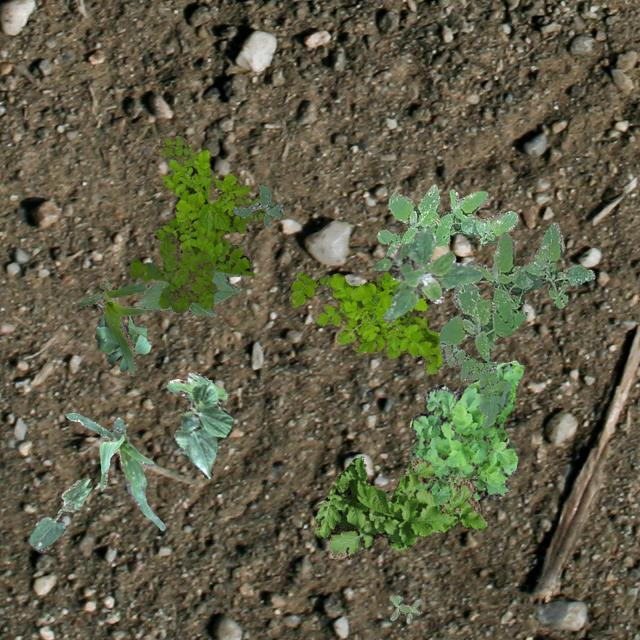crop: (64, 412, 164, 530), (166, 372, 232, 478), (78, 280, 146, 374), (135, 268, 239, 316), (28, 476, 90, 552), (94, 302, 150, 371)
weed: (436, 222, 594, 361), (314, 456, 486, 560), (408, 360, 522, 504), (288, 270, 440, 372), (154, 149, 254, 275), (154, 133, 278, 220), (372, 226, 482, 322), (377, 182, 518, 256), (130, 232, 216, 312), (436, 342, 509, 428), (230, 182, 284, 226), (388, 594, 421, 622)
